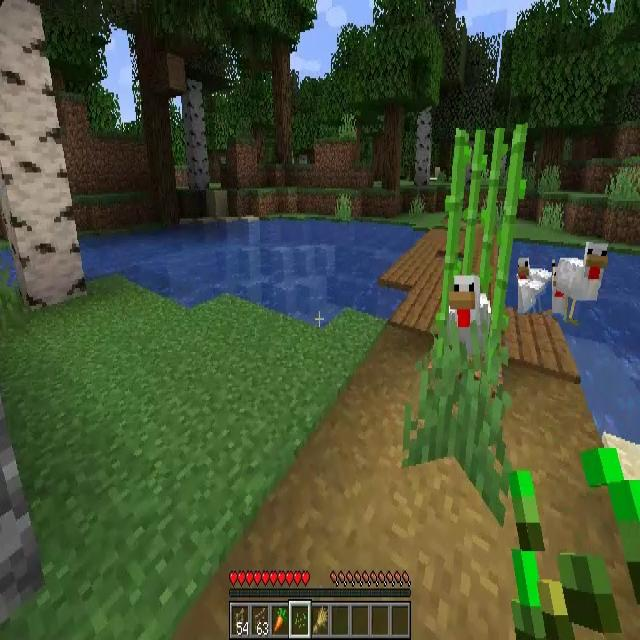duck: (557, 242, 608, 326), (449, 274, 488, 369), (518, 256, 552, 315)
